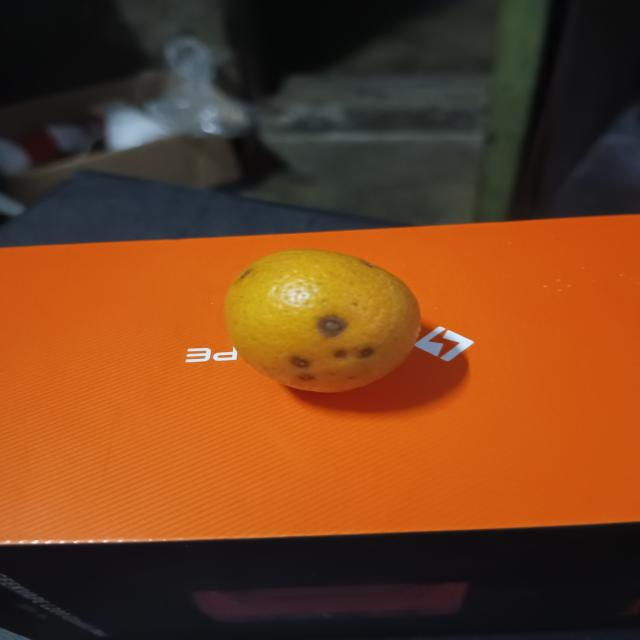black spot: (222, 250, 425, 398)
